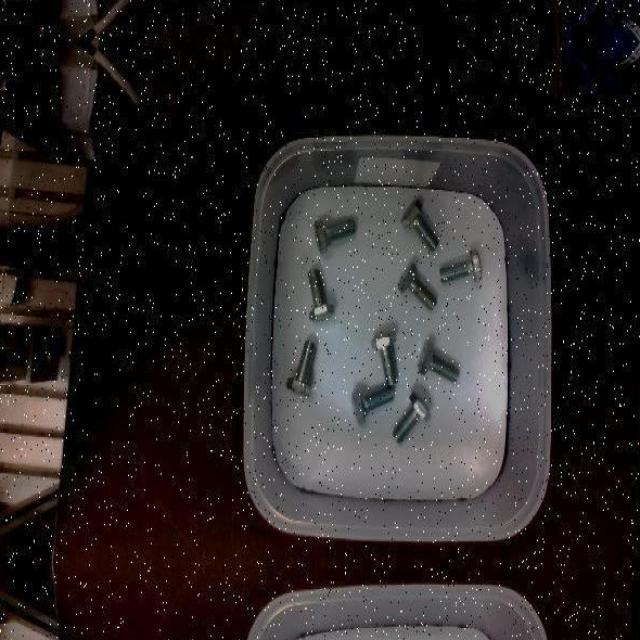screw: (400, 198, 440, 250), (392, 391, 431, 444), (397, 262, 437, 309), (286, 339, 316, 396), (418, 340, 458, 382), (350, 386, 394, 424), (439, 247, 482, 284), (308, 267, 335, 320), (370, 332, 396, 387), (314, 218, 354, 253)
